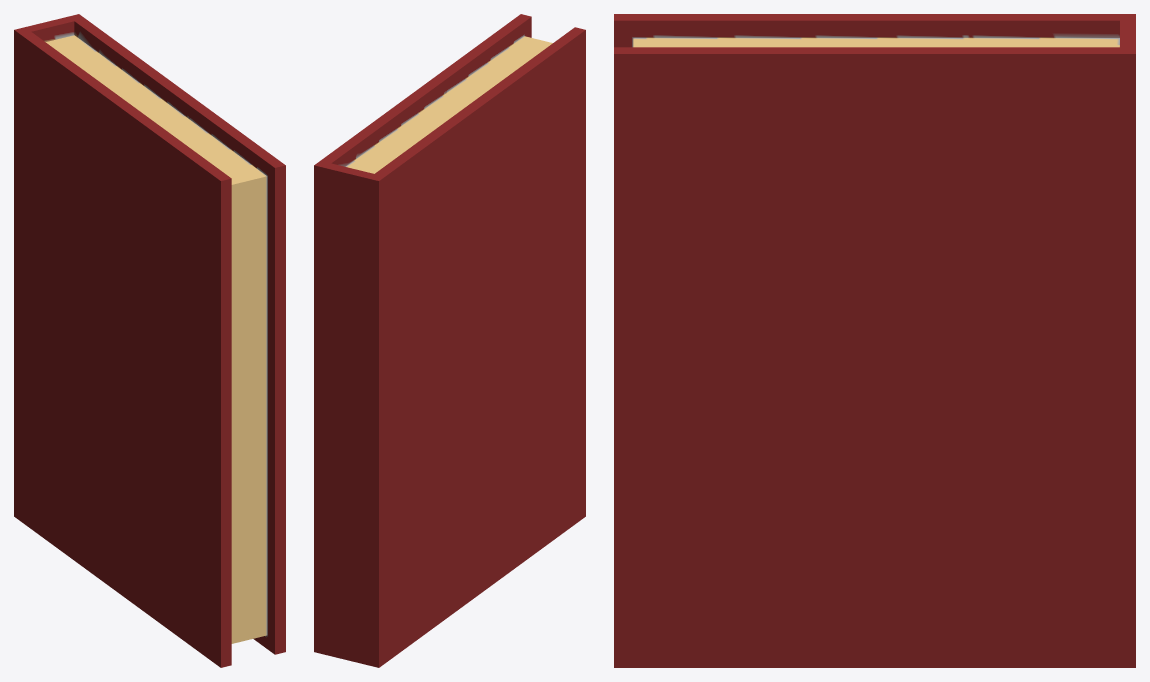
File: Book.gltf
The picture shows the model from 3 angles, left to right: view 1: azimuth 30°, elevation 25°; view 2: azimuth 150°, elevation 25°; view 3: azimuth 270°, elevation 25°; orthographic projection. The views are drawn at different scales.
Parts seen in each view (by area): view 1: Book; view 2: Book; view 3: Book.
Boxes of the visible parts, <box> form: Book: <box>14,14,285,667</box>; Book: <box>314,14,585,667</box>; Book: <box>614,14,1135,667</box>.
Bounding box in the file's own units: 3.31 × 23.67 × 18.23.
1 material, 1 textured.
